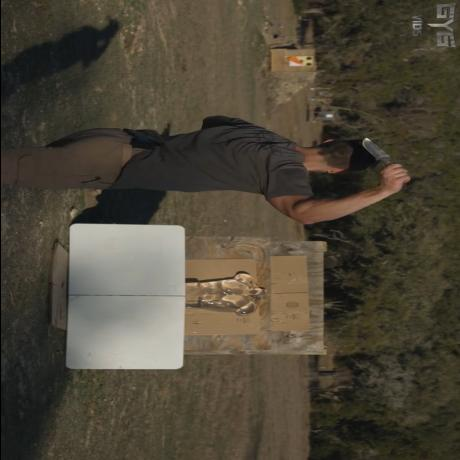1: (12, 114, 420, 224)
weapon: (359, 136, 399, 167)
